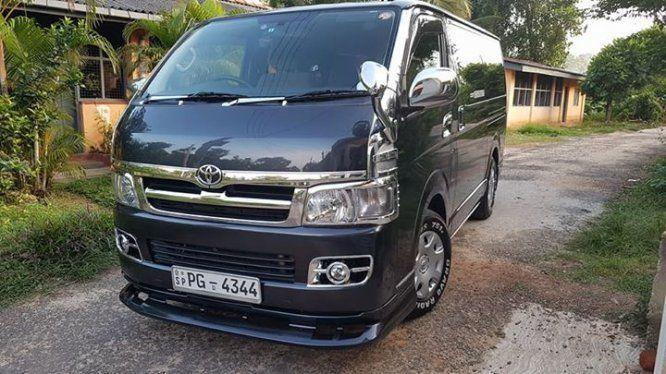car: (108, 0, 513, 351)
